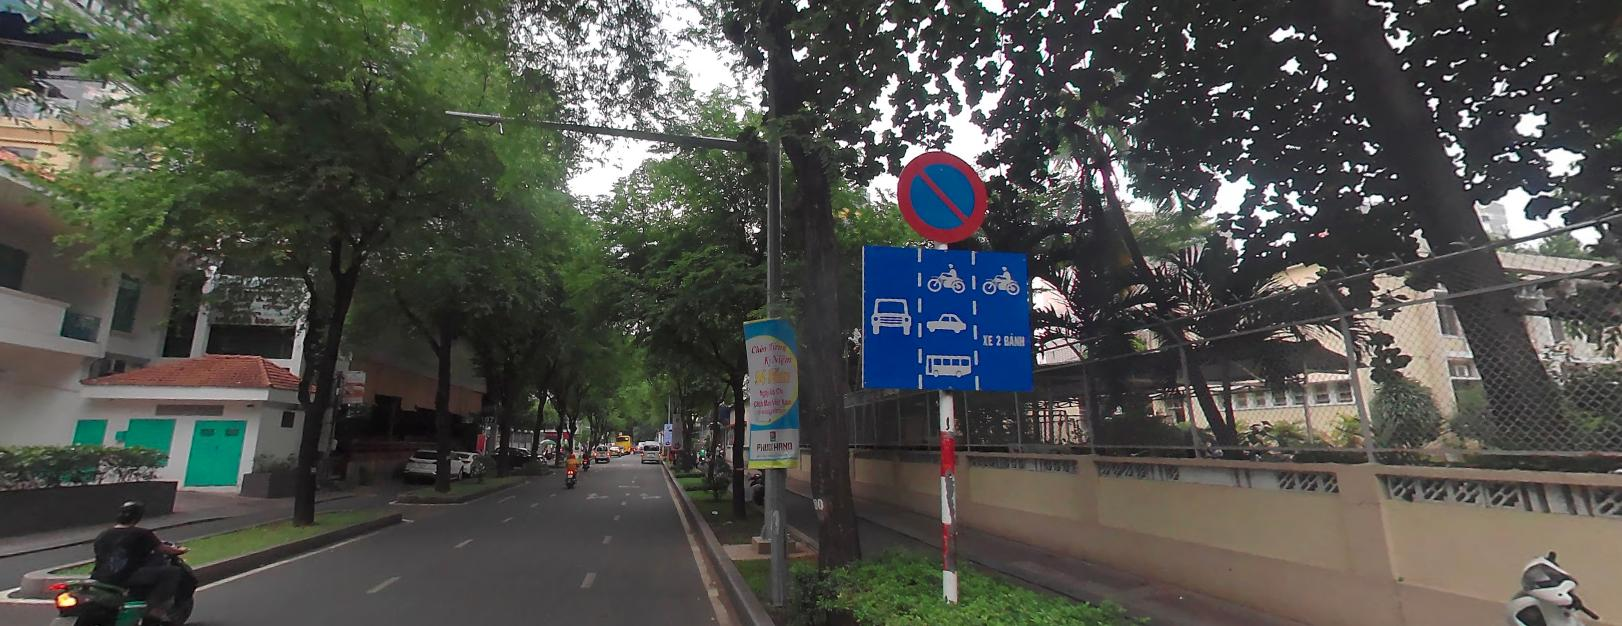Cam dung va do: (895, 145, 987, 242), (895, 147, 986, 242)
